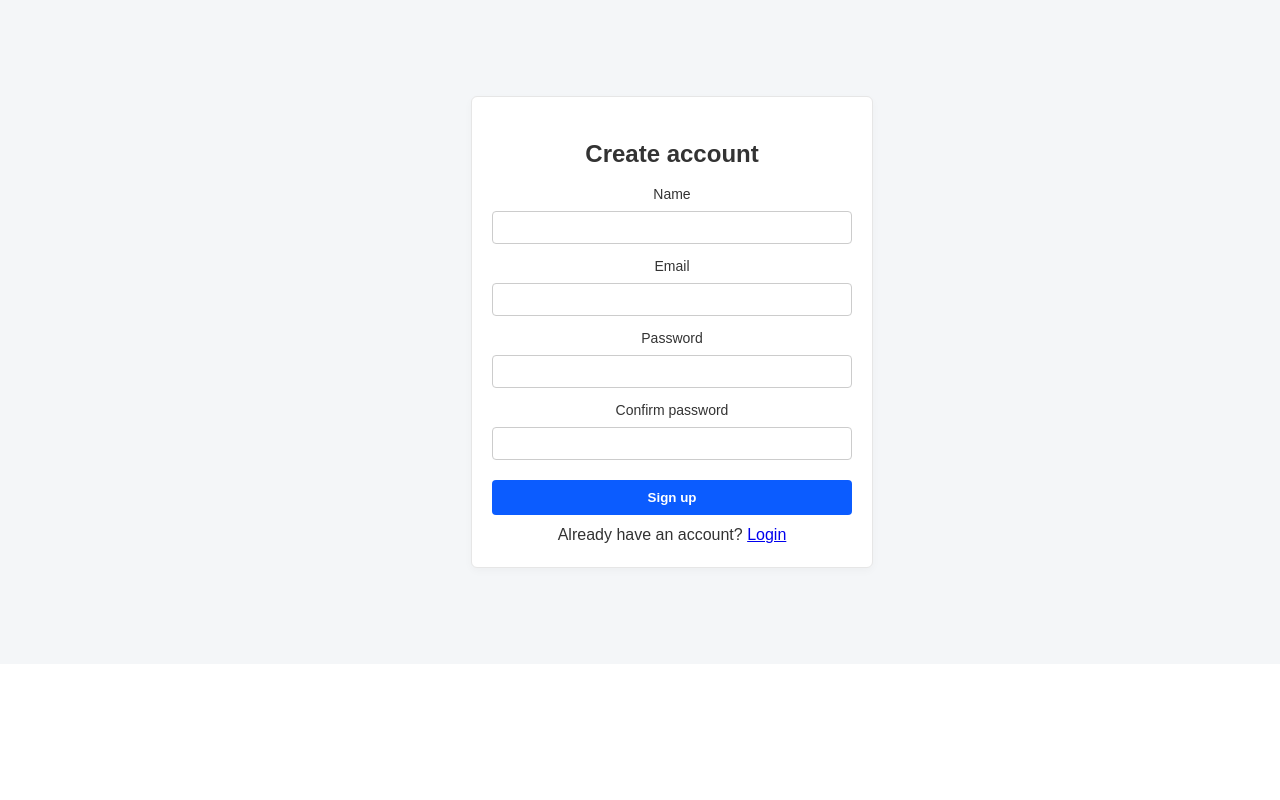
validates signup form fields
Click the button "Sign up": click(672, 498) [492,480,852,516]
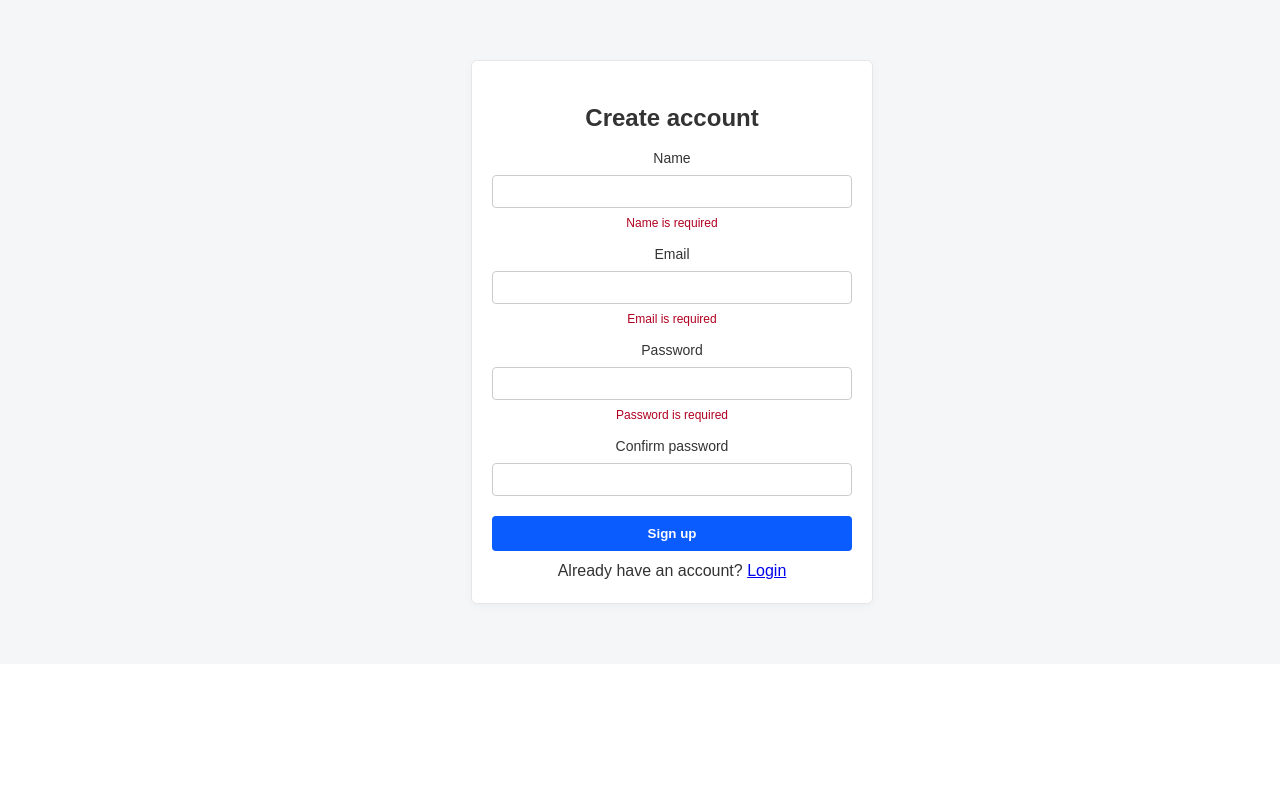
Now the text "Name is required" is shown, box [626,216,718,230]
Now the text "Email is required" is shown, box [627,312,717,326]
Now the text "Password is required" is shown, box [616,408,728,422]
